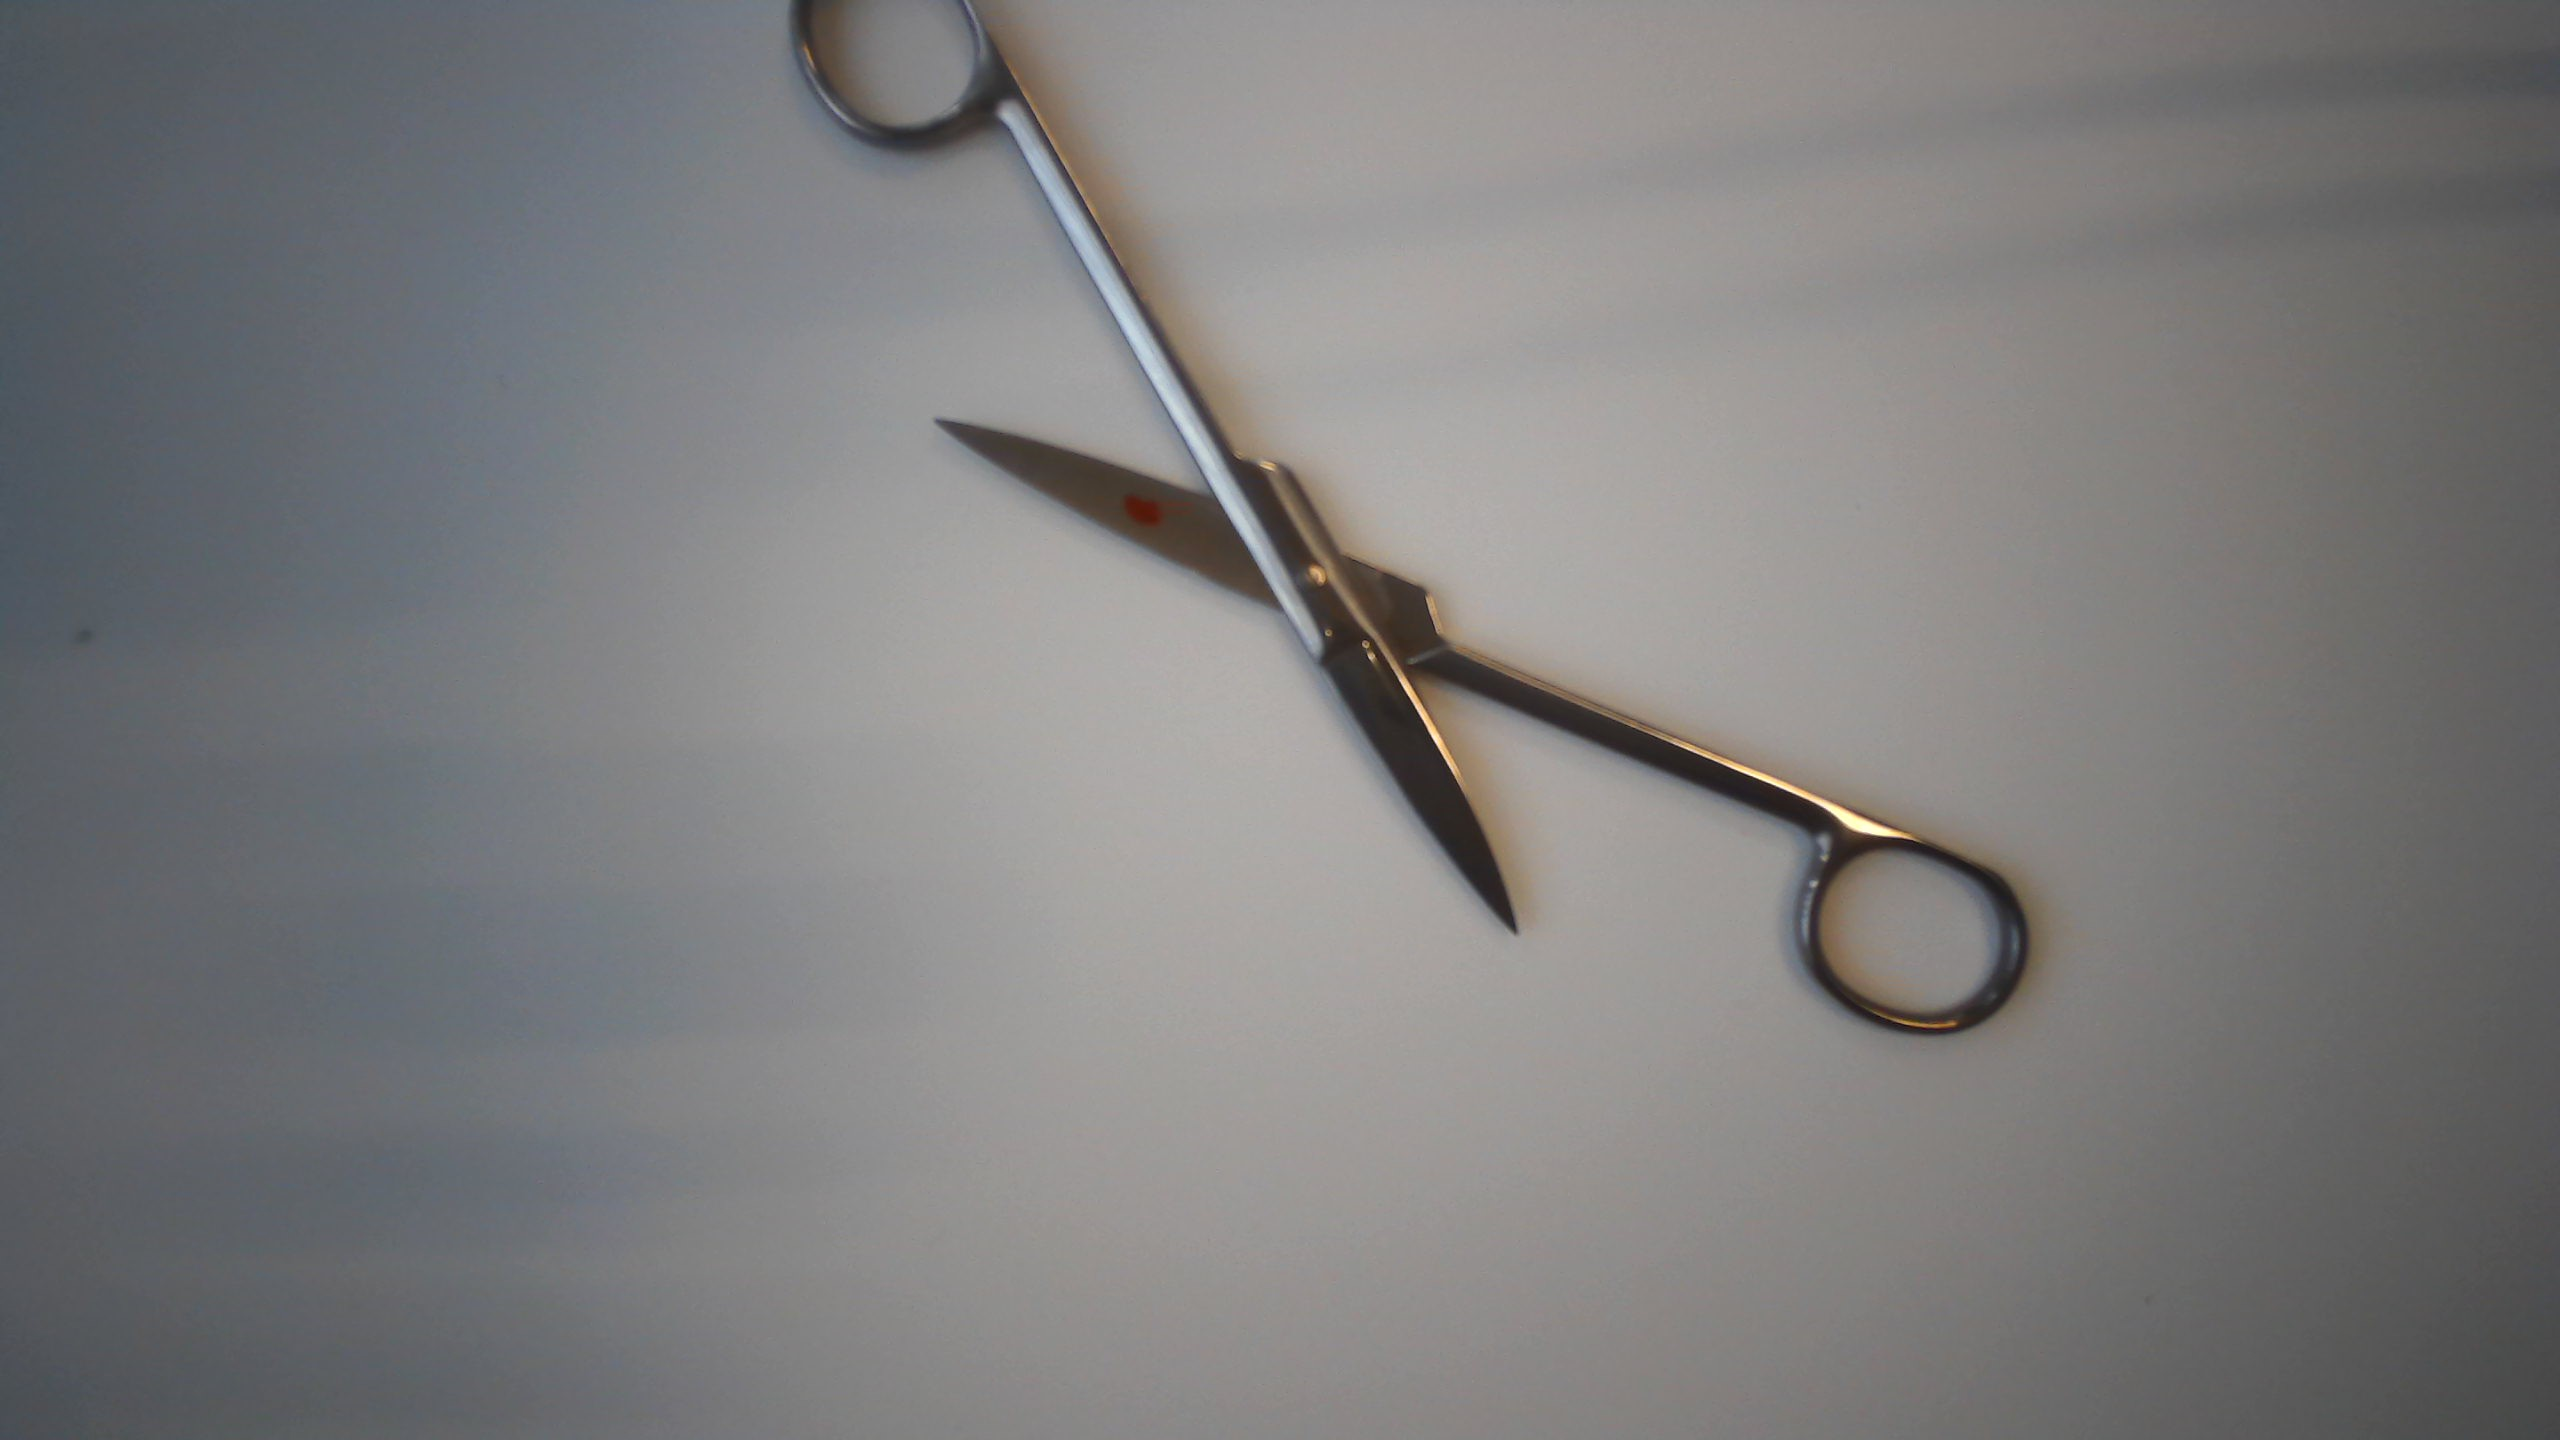Stain: (1101, 484, 1175, 533)
